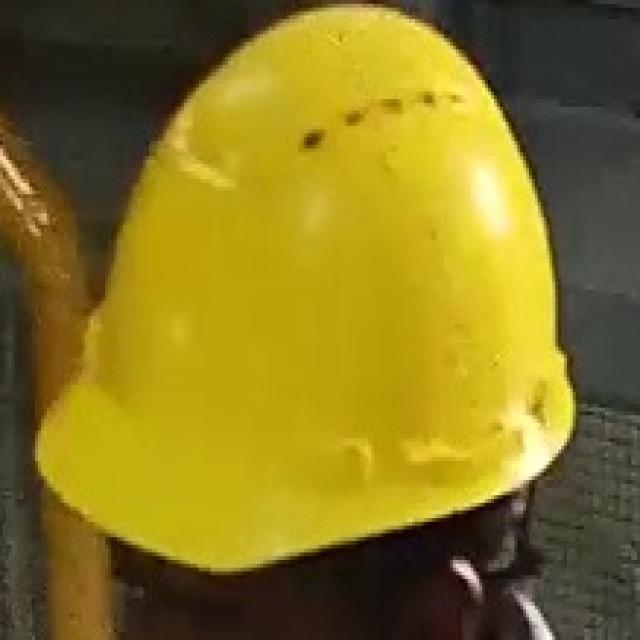yellow helmet: (21, 1, 599, 586)
